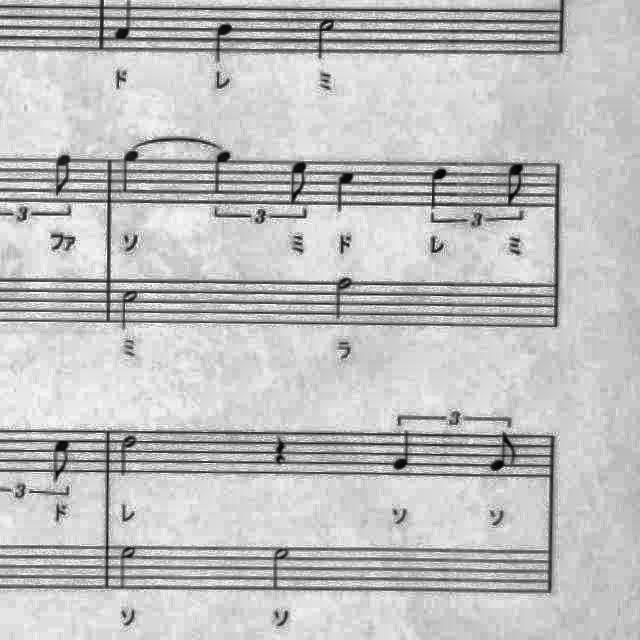Eighth-note: (282, 154, 316, 210), (484, 429, 522, 477), (502, 154, 534, 210), (49, 148, 81, 202), (48, 434, 78, 486)
Half-note: (310, 12, 342, 64), (266, 542, 298, 594), (112, 540, 142, 594), (330, 272, 360, 326), (114, 285, 142, 335), (115, 430, 142, 480)
Quarter-note: (330, 164, 362, 218), (116, 146, 148, 200), (422, 162, 454, 214), (208, 18, 240, 66), (207, 148, 237, 198), (388, 428, 418, 476), (112, 0, 144, 44)
Quarter-rest: (268, 430, 296, 470)
